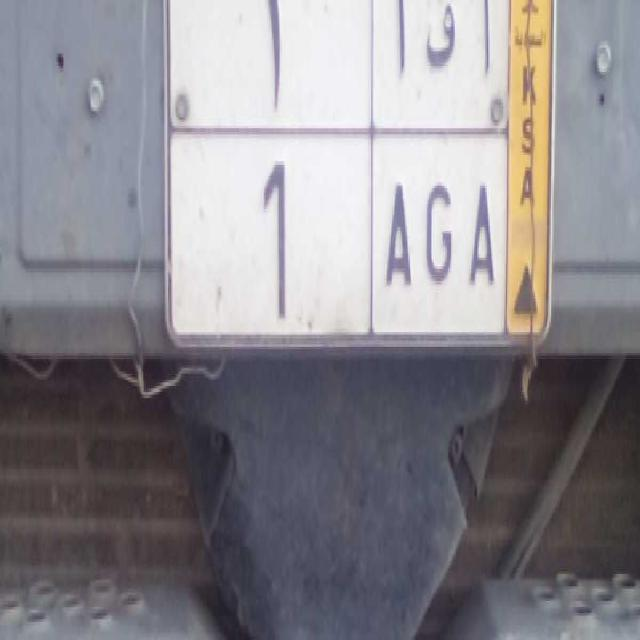license_plate: (162, 124, 509, 342)
